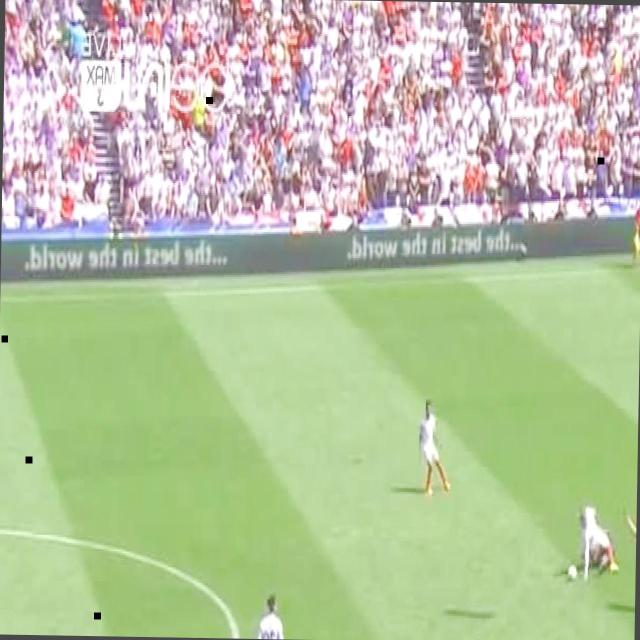ball: (568, 562, 578, 580)
player-white: (418, 397, 453, 498), (581, 502, 619, 584), (624, 513, 637, 619), (257, 594, 285, 640), (587, 524, 614, 570), (632, 193, 640, 267)
